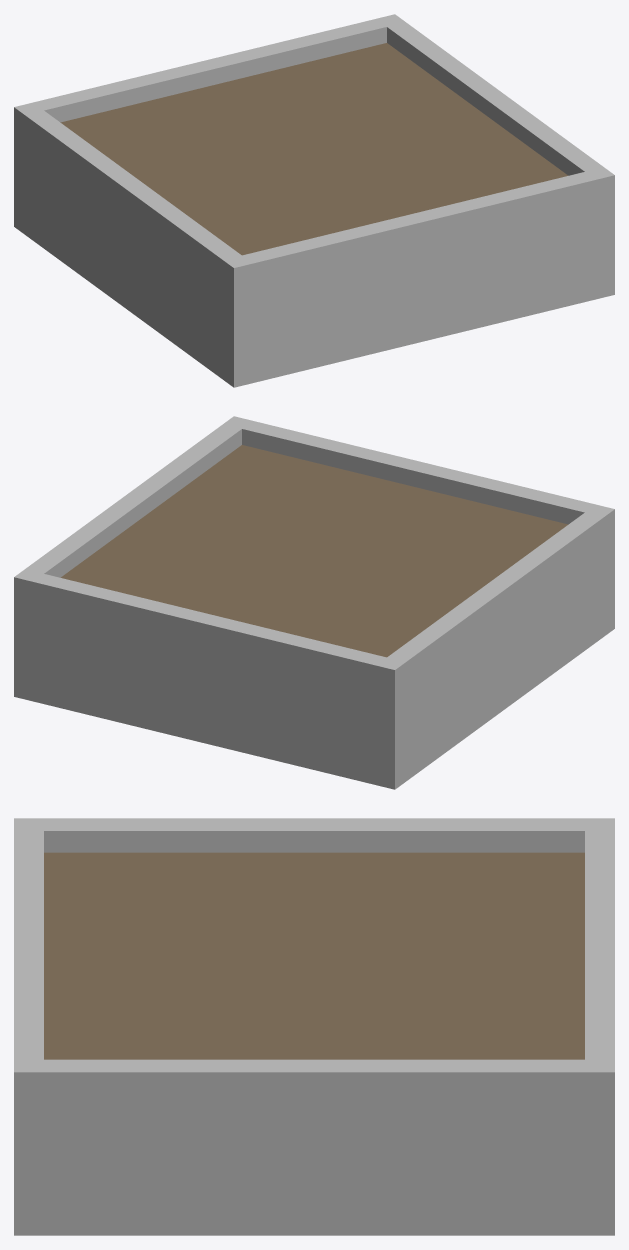
File: apple_planter_tree_box.glb
3 renders of one model, top to bottom at view 1: azimuth 30°, elevation 25°; view 2: azimuth 150°, elevation 25°; view 3: azimuth 270°, elevation 25°, orthographic. The views are drawn at different scales.
Parts seen in each view (by area): view 1: apple_planter_tree_box; view 2: apple_planter_tree_box; view 3: apple_planter_tree_box.
Part boxes in pixels (x1,y1,x2,y2): apple_planter_tree_box: (14, 14, 614, 387); apple_planter_tree_box: (14, 416, 614, 789); apple_planter_tree_box: (14, 818, 614, 1235).
Size of the model in its own units: 2 by 0.6 by 2.
